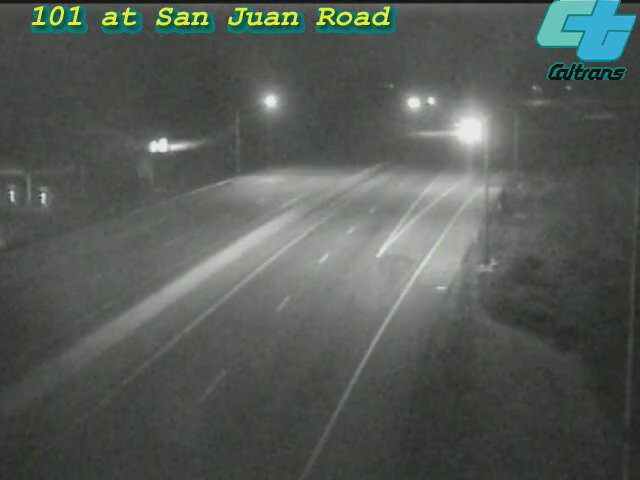vehicle: (441, 106, 491, 156)
